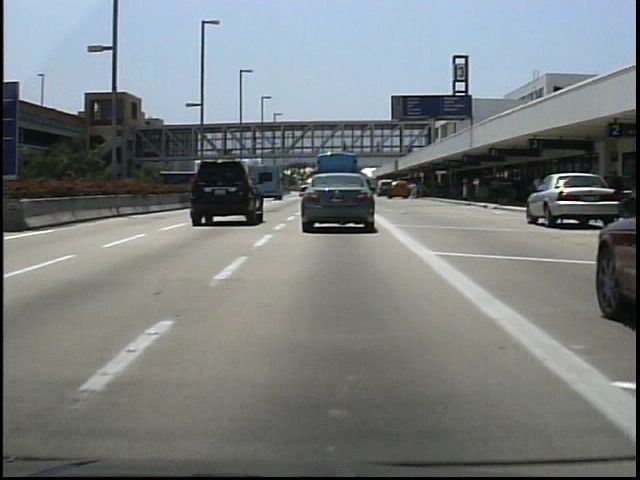person: (529, 169, 545, 210), (488, 173, 505, 205), (407, 177, 422, 204), (373, 136, 386, 158), (339, 136, 352, 156)
